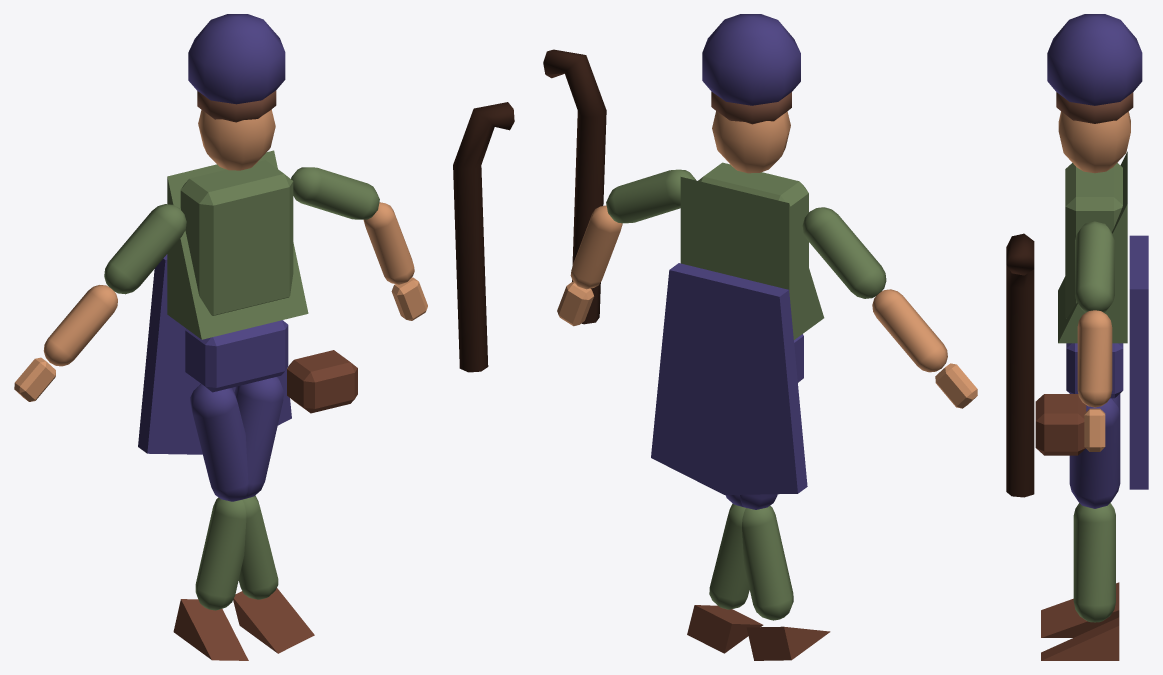
The model's file is adventurer.rustic.glb.
3 renders of one model, left to right at view 1: azimuth 30°, elevation 25°; view 2: azimuth 150°, elevation 25°; view 3: azimuth 270°, elevation 25°, orthographic.
Parts seen in each view (by area): view 1: torso, accessory.main-hand, accessory.back, accessory.head, tunic, pelvis, thigh.left, shin.right, upper-arm.left, thigh.right, accessory.waist, head (+9 smaller); view 2: accessory.back, tunic, accessory.head, accessory.main-hand, shin.right, upper-arm.left, head, forearm.left, upper-arm.right, torso, shin.left, forearm.right (+5 smaller); view 3: accessory.main-hand, accessory.head, accessory.back, shin.left, torso, thigh.right, upper-arm.right, head, forearm.right, tunic, accessory.waist, foot.left (+4 smaller).
Part boxes in pixels (left/top/right/bottom): torso: left=180, top=160, right=293, bottom=315; accessory.main-hand: left=453, top=102, right=514, bottom=372; accessory.back: left=138, top=254, right=291, bottom=454; accessory.head: left=188, top=14, right=285, bottom=104; tunic: left=167, top=150, right=308, bottom=339; pelvis: left=185, top=320, right=288, bottom=392; thigh.left: left=190, top=384, right=248, bottom=501; shin.right: left=195, top=497, right=246, bottom=610; upper-arm.left: left=104, top=204, right=186, bottom=294; thigh.right: left=234, top=376, right=283, bottom=498; accessory.waist: left=287, top=350, right=357, bottom=413; head: left=198, top=109, right=275, bottom=170; accessory.back: left=651, top=263, right=807, bottom=494; tunic: left=680, top=177, right=824, bottom=339; accessory.head: left=702, top=14, right=800, bottom=105; accessory.main-hand: left=543, top=49, right=606, bottom=324; shin.right: left=742, top=505, right=793, bottom=620; upper-arm.left: left=802, top=207, right=886, bottom=298; head: left=712, top=111, right=790, bottom=173; forearm.left: left=872, top=289, right=947, bottom=372; upper-arm.right: left=606, top=169, right=696, bottom=223; torso: left=698, top=162, right=808, bottom=266; shin.left: left=709, top=503, right=749, bottom=609; forearm.right: left=570, top=205, right=622, bottom=289; accessory.main-hand: left=1006, top=233, right=1034, bottom=497; accessory.head: left=1047, top=14, right=1142, bottom=105; accessory.back: left=1129, top=235, right=1148, bottom=489; shin.left: left=1073, top=504, right=1115, bottom=622; torso: left=1065, top=163, right=1122, bottom=318; thigh.right: left=1069, top=398, right=1120, bottom=508; upper-arm.right: left=1075, top=221, right=1114, bottom=312; head: left=1058, top=111, right=1130, bottom=173; forearm.right: left=1077, top=310, right=1112, bottom=407; tunic: left=1058, top=151, right=1127, bottom=343; accessory.waist: left=1035, top=394, right=1086, bottom=455; foot.left: left=1041, top=617, right=1119, bottom=660.
Bounding box in the file's own units: 2.52 × 3.28 × 0.675.
